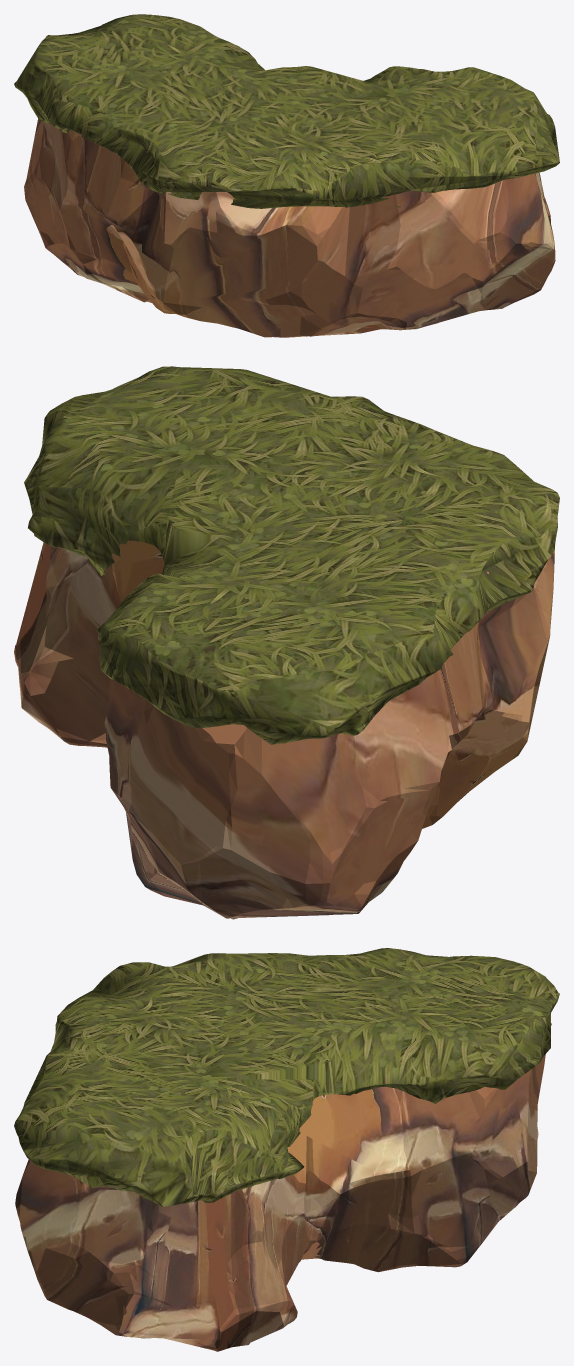
The model's file is platform03.fbx.
3 renders of one model, top to bottom at view 1: azimuth 30°, elevation 25°; view 2: azimuth 150°, elevation 25°; view 3: azimuth 270°, elevation 25°, orthographic. The views are drawn at different scales.
Visible parts, largest first — view 1: platform03; view 2: platform03; view 3: platform03.
Part boxes in pixels (x1,y1,x2,y2): platform03: (14,14,559,337); platform03: (14,366,559,919); platform03: (14,948,559,1351).
Size of the model in its own units: 8.82 by 9.64 by 4.85.
